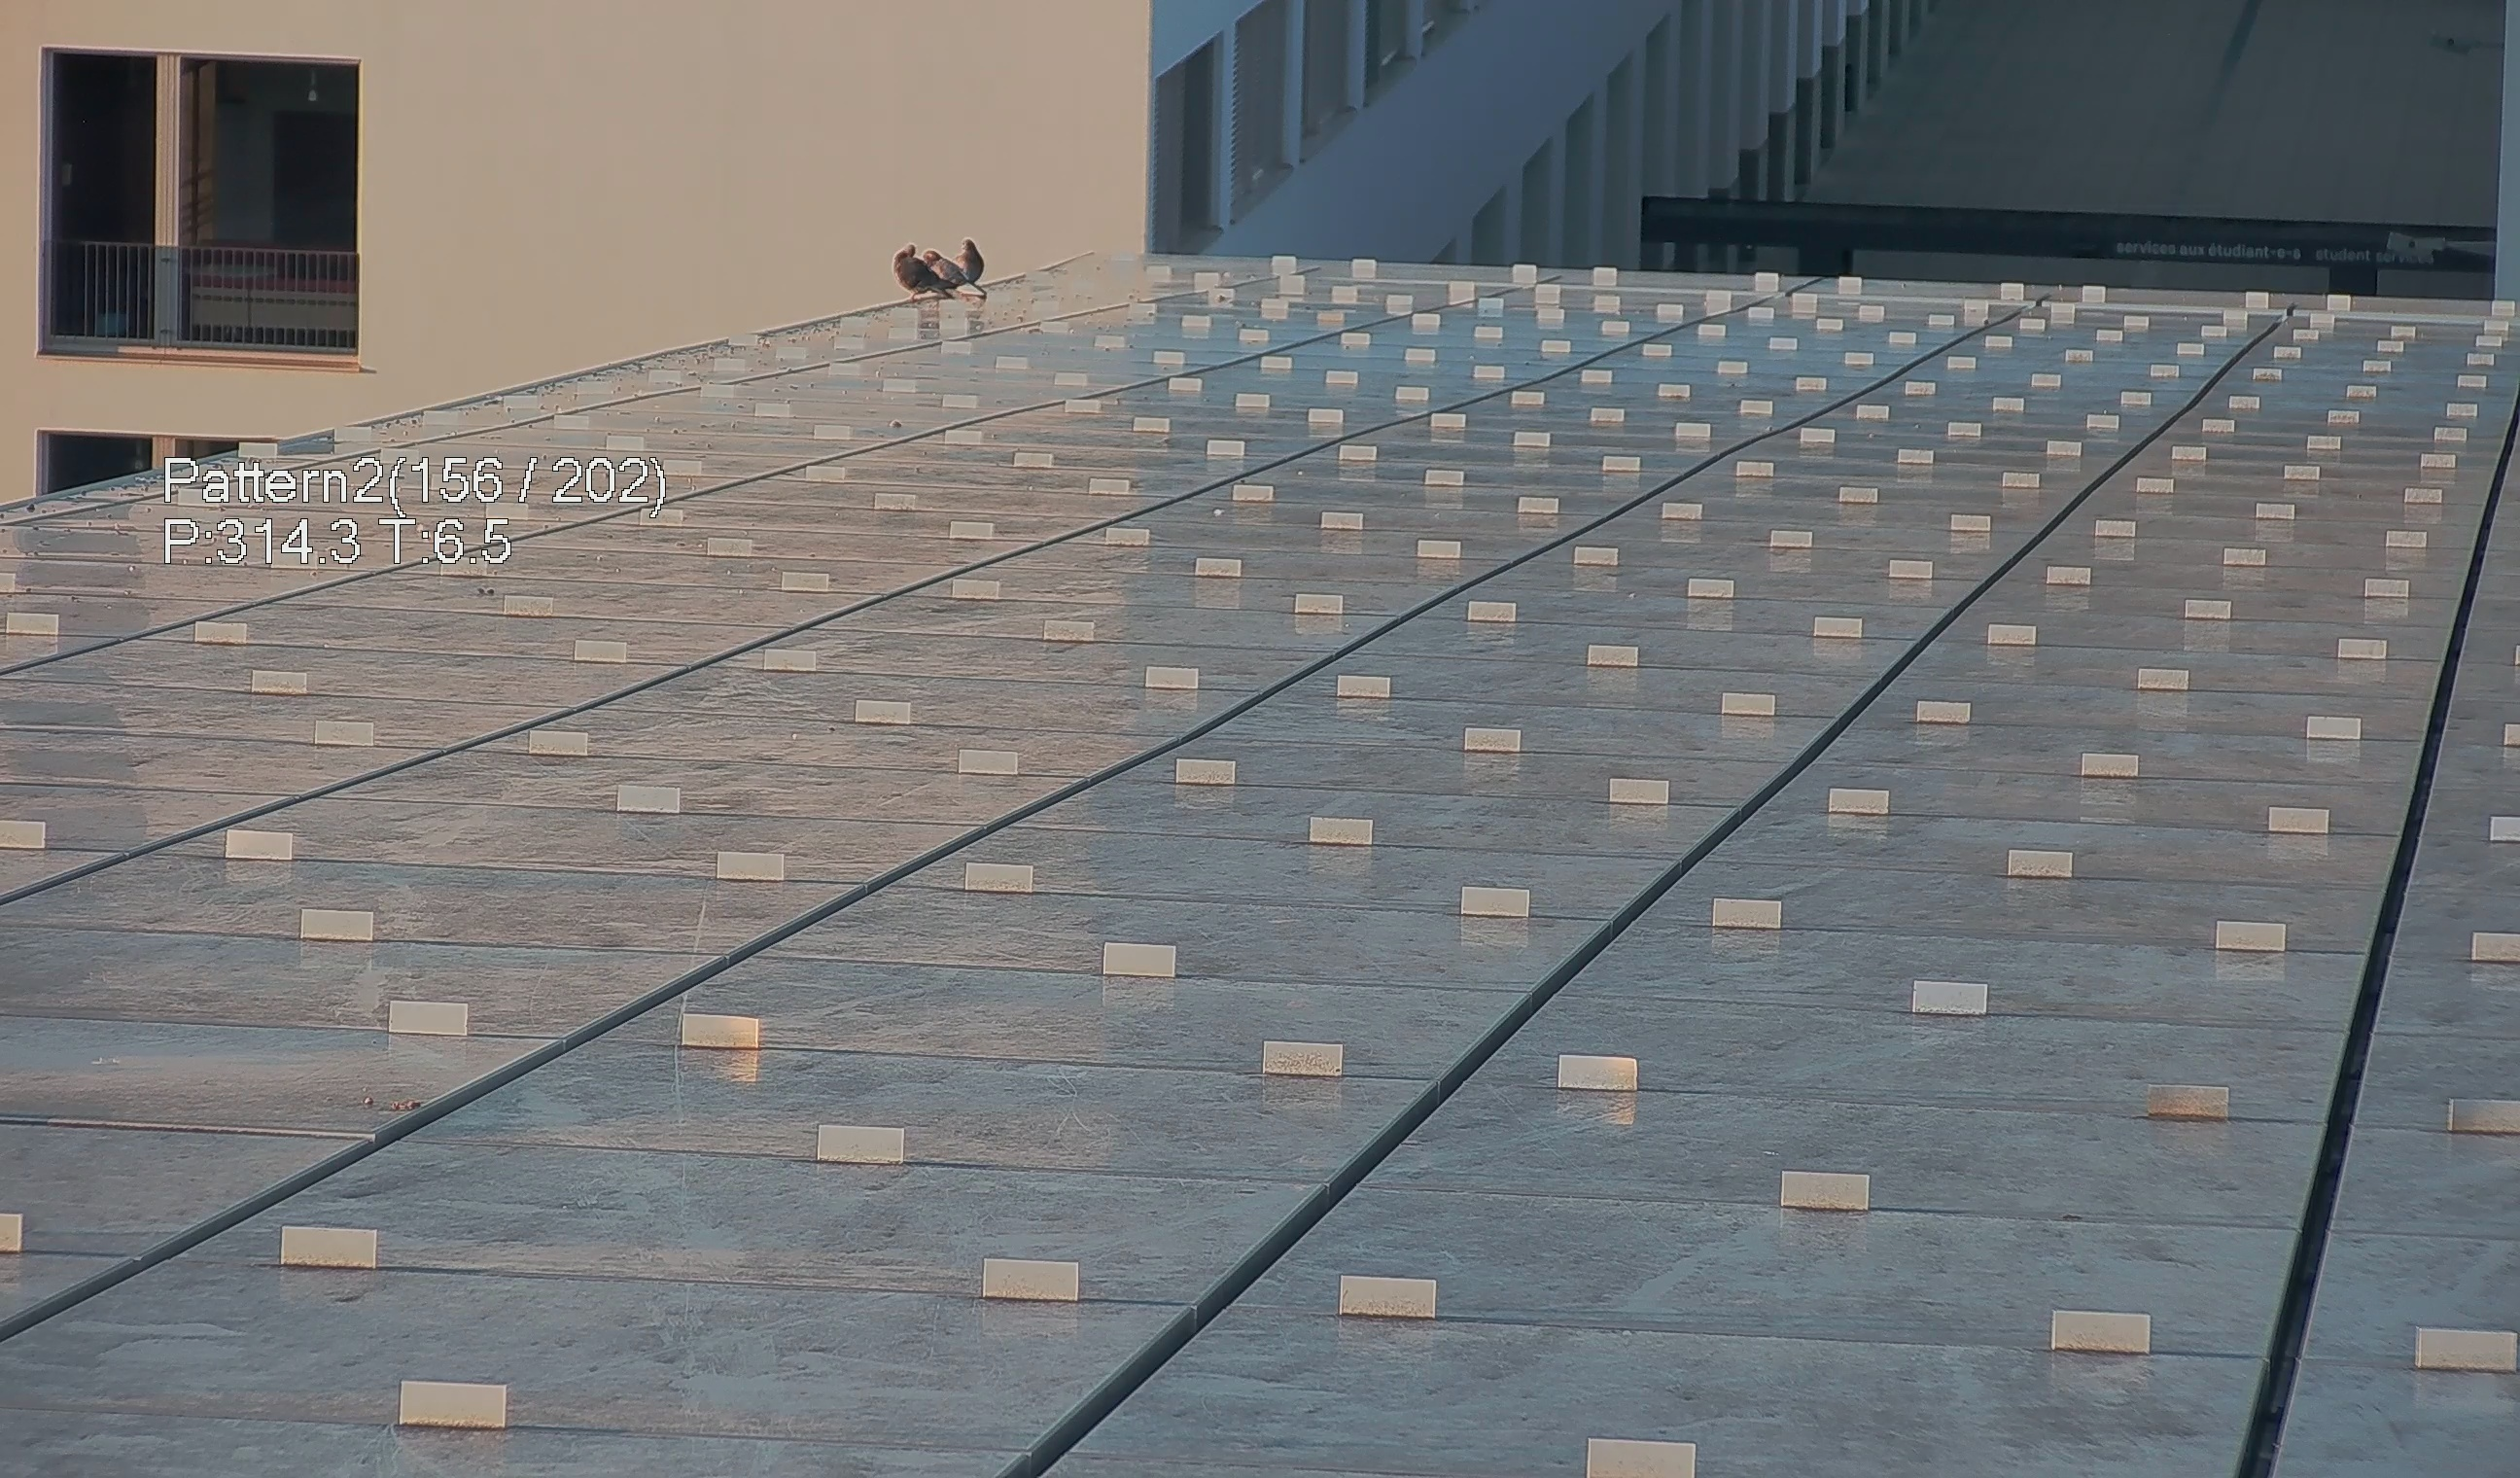Pigeon: (888, 243, 962, 299), (920, 250, 976, 292), (953, 238, 983, 285)
